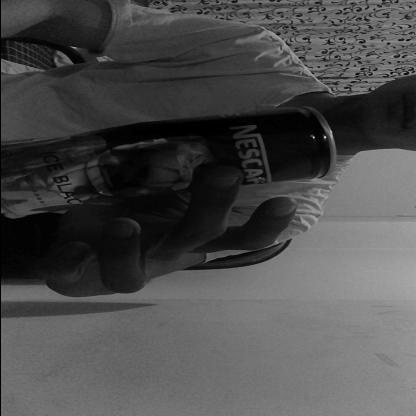alumunium_can: (0, 104, 338, 220)
